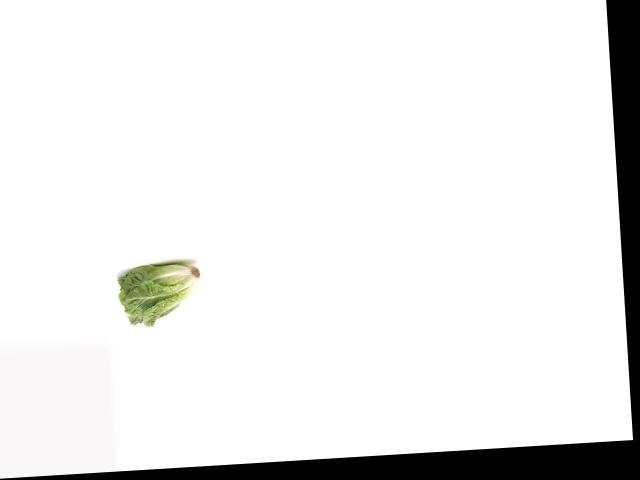lettuce: (117, 259, 207, 328)
